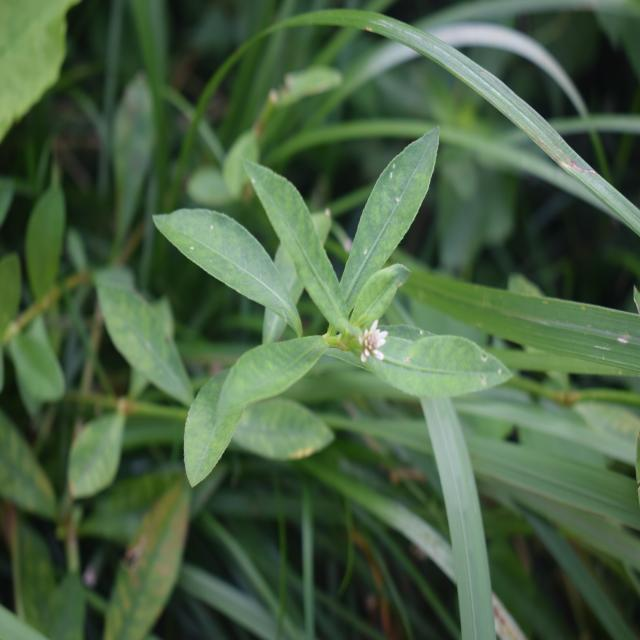Alligatorweed: (179, 146, 519, 492)
